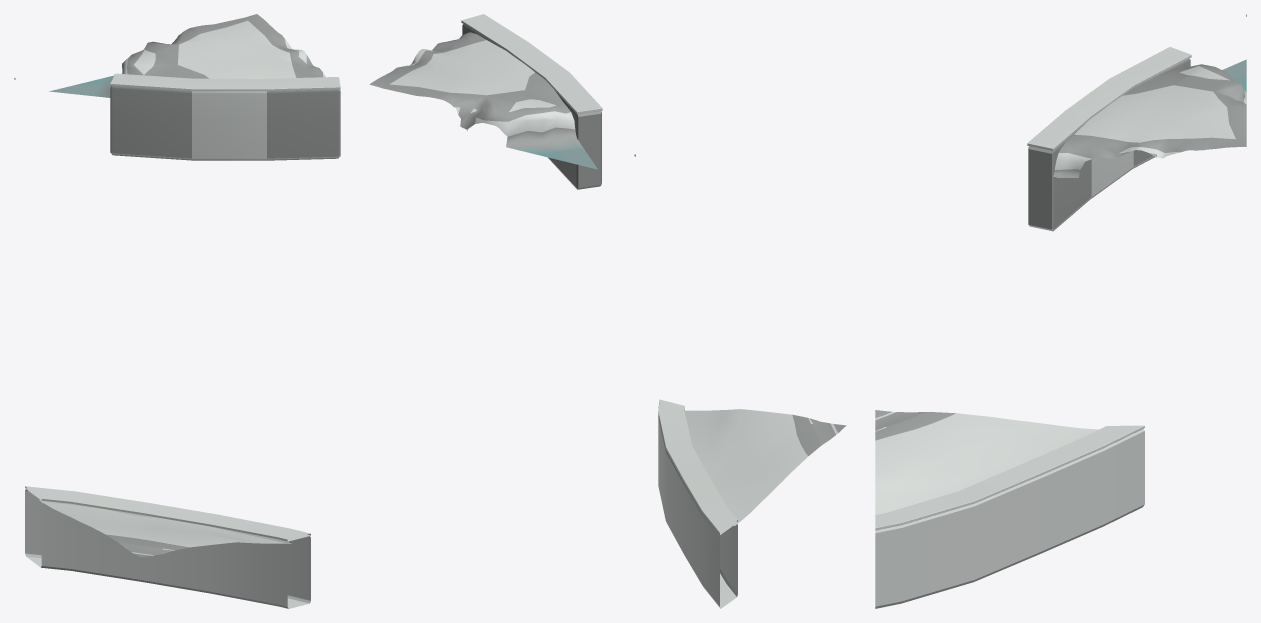
3 views of the same model, side by side, from view 1: azimuth 30°, elevation 25°; view 2: azimuth 150°, elevation 25°; view 3: azimuth 270°, elevation 25° (orthographic). The views are drawn at different scales.
Visible parts, largest first — view 1: G:\FFXIV-MapTools\exports\n5f1\bg\ex4\01_nvt_n5\fld\n5f1\bgp (×10); view 2: G:\FFXIV-MapTools\exports\n5f1\bg\ex4\01_nvt_n5\fld\n5f1\bgp (×11); view 3: G:\FFXIV-MapTools\exports\n5f1\bg\ex4\01_nvt_n5\fld\n5f1\bgp (×11).
Part boxes in pixels (left/top/right/bottom): G:\FFXIV-MapTools\exports\n5f1\bg\ex4\01_nvt_n5\fld\n5f1\bgp (×10): left=14, top=14, right=340, bottom=608; G:\FFXIV-MapTools\exports\n5f1\bg\ex4\01_nvt_n5\fld\n5f1\bgp (×11): left=369, top=14, right=846, bottom=608; G:\FFXIV-MapTools\exports\n5f1\bg\ex4\01_nvt_n5\fld\n5f1\bgp (×11): left=875, top=14, right=1246, bottom=608.
Size of the model in its own units: 128 by 200 by 128.
